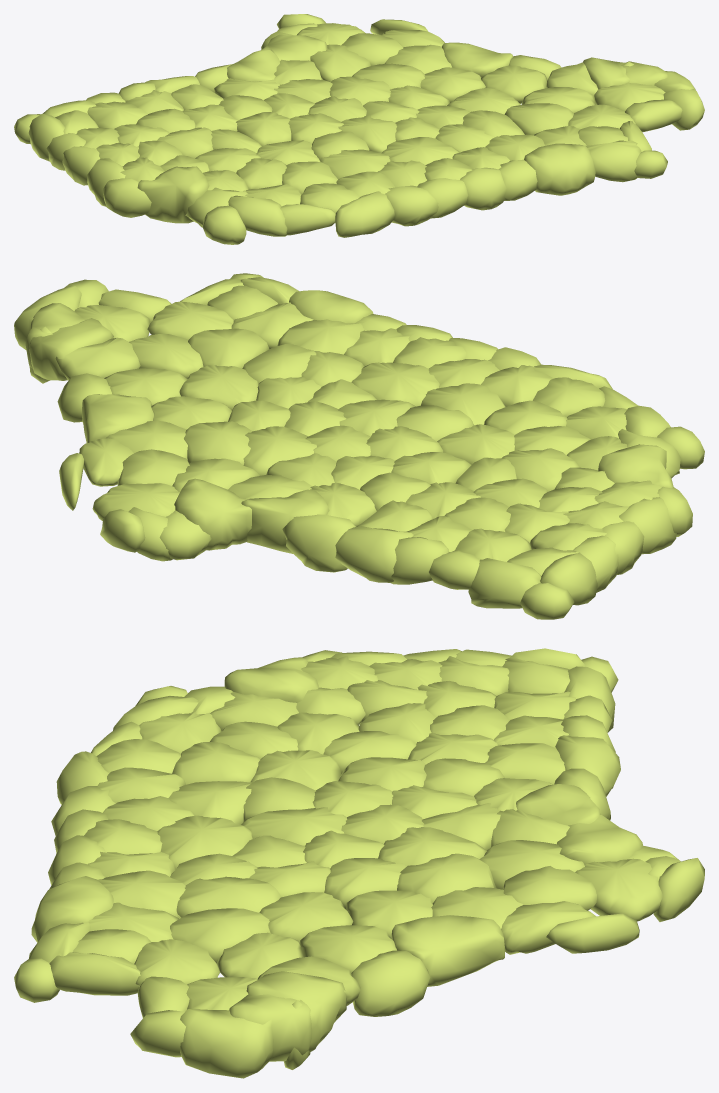
File: Islands2.007_fog.fbx
3 views of the same model, one above another, from view 1: azimuth 30°, elevation 25°; view 2: azimuth 150°, elevation 25°; view 3: azimuth 270°, elevation 25° (orthographic). The views are drawn at different scales.
Visible parts, largest first — view 1: Island2.007_fog_cell.077, Island2.007_fog_cell.092, Island2.007_fog_cell.020, Island2.007_fog_cell.064, Island2.007_fog_cell.010, Island2.007_fog_cell.070, Island2.007_fog_cell.011, Island2.007_fog_cell.094, Island2.007_fog_cell.096, Island2.007_fog_cell.042, Island2.007_fog_cell.041, Island2.007_fog_cell.056 (+84 smaller); view 2: Island2.007_fog_cell.079, Island2.007_fog_cell.067, Island2.007_fog_cell.057, Island2.007_fog_cell.080, Island2.007_fog_cell.015, Island2.007_fog_cell.056, Island2.007_fog_cell.042, Island2.007_fog_cell.016, Island2.007_fog_cell.048, Island2.007_fog_cell.011, Island2.007_fog_cell.092, Island2.007_fog_cell.025 (+85 smaller); view 3: Island2.007_fog_cell.042, Island2.007_fog_cell.085, Island2.007_fog_cell.038, Island2.007_fog_cell.022, Island2.007_fog_cell.016, Island2.007_fog_cell.001, Island2.007_fog_cell.056, Island2.007_fog_cell.011, Island2.007_fog_cell.082, Island2.007_fog_cell.025, Island2.007_fog_cell.077, Island2.007_fog_cell.048 (+81 smaller).
Part boxes in pixels (bbox=[...]): Island2.007_fog_cell.077: bbox=[524, 143, 595, 195]; Island2.007_fog_cell.092: bbox=[137, 166, 209, 223]; Island2.007_fog_cell.020: bbox=[335, 191, 394, 237]; Island2.007_fog_cell.064: bbox=[585, 140, 641, 182]; Island2.007_fog_cell.010: bbox=[228, 195, 287, 236]; Island2.007_fog_cell.070: bbox=[385, 185, 438, 226]; Island2.007_fog_cell.011: bbox=[504, 103, 573, 135]; Island2.007_fog_cell.094: bbox=[481, 65, 547, 103]; Island2.007_fog_cell.096: bbox=[460, 167, 506, 210]; Island2.007_fog_cell.042: bbox=[442, 42, 513, 77]; Island2.007_fog_cell.041: bbox=[103, 178, 151, 217]; Island2.007_fog_cell.056: bbox=[381, 137, 459, 164]; Island2.007_fog_cell.079: bbox=[174, 478, 251, 550]; Island2.007_fog_cell.067: bbox=[335, 526, 413, 582]; Island2.007_fog_cell.057: bbox=[241, 489, 329, 553]; Island2.007_fog_cell.080: bbox=[282, 514, 356, 572]; Island2.007_fog_cell.015: bbox=[468, 558, 541, 608]; Island2.007_fog_cell.056: bbox=[351, 362, 439, 406]; Island2.007_fog_cell.042: bbox=[82, 394, 153, 443]; Island2.007_fog_cell.016: bbox=[29, 318, 113, 380]; Island2.007_fog_cell.048: bbox=[179, 365, 258, 409]; Island2.007_fog_cell.011: bbox=[188, 328, 269, 368]; Island2.007_fog_cell.092: bbox=[598, 444, 673, 488]; Island2.007_fog_cell.025: bbox=[184, 421, 252, 465]; Island2.007_fog_cell.042: bbox=[391, 915, 505, 986]; Island2.007_fog_cell.085: bbox=[180, 1009, 273, 1078]; Island2.007_fog_cell.038: bbox=[351, 950, 430, 1016]; Island2.007_fog_cell.022: bbox=[575, 858, 662, 921]; Island2.007_fog_cell.016: bbox=[246, 971, 346, 1052]; Island2.007_fog_cell.001: bbox=[49, 952, 140, 995]; Island2.007_fog_cell.056: bbox=[157, 815, 252, 869]; Island2.007_fog_cell.011: bbox=[170, 908, 270, 963]; Island2.007_fog_cell.082: bbox=[229, 994, 311, 1061]; Island2.007_fog_cell.025: bbox=[397, 853, 496, 902]; Island2.007_fog_cell.077: bbox=[31, 876, 113, 942]; Island2.007_fog_cell.048: bbox=[259, 892, 353, 943].
Bounding box in the file's own units: 138 × 11.89 × 103.
